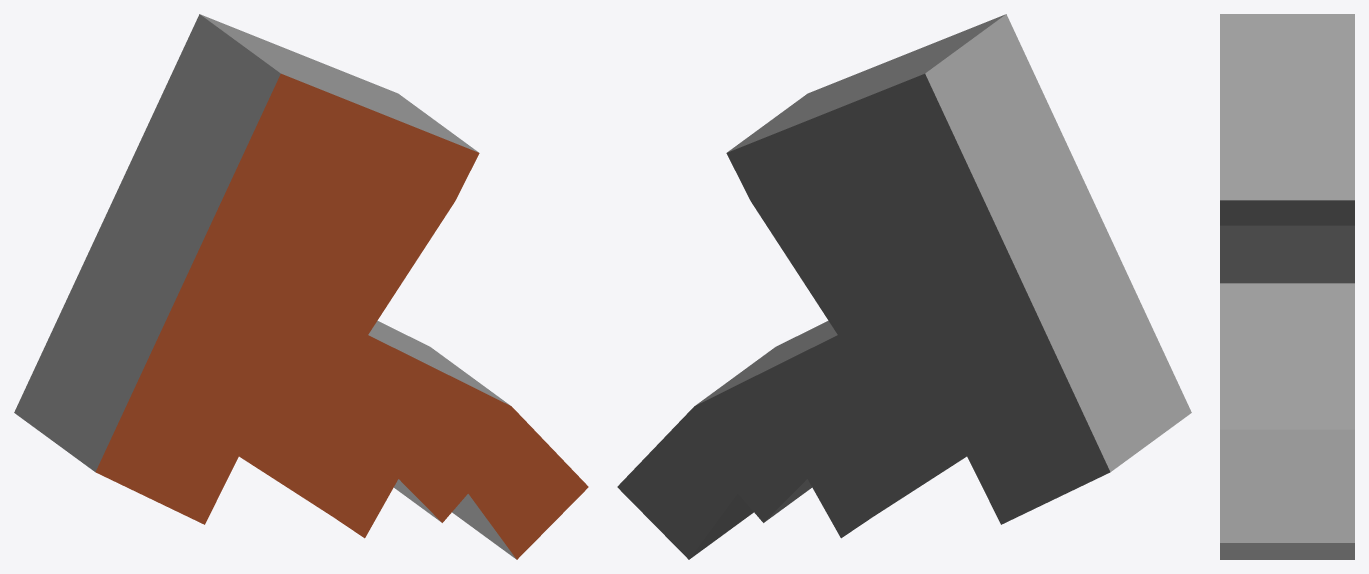
The model's file is construction_5895_assumed_A_Casa_h6m.obj.
3 renders of one model, left to right at view 1: azimuth 30°, elevation 25°; view 2: azimuth 150°, elevation 25°; view 3: azimuth 270°, elevation 25°, orthographic. The views are drawn at different scales.
Visible parts, largest first — view 1: construction_5895_assumed_A_Casa; view 2: construction_5895_assumed_A_Casa; view 3: construction_5895_assumed_A_Casa.
Boxes of the visible parts, x1,y1,x2,y2 form: construction_5895_assumed_A_Casa: (14,14,588,559); construction_5895_assumed_A_Casa: (617,14,1191,559); construction_5895_assumed_A_Casa: (1220,14,1354,559).
Bounding box in the file's own units: 21.01 × 22.13 × 6.
